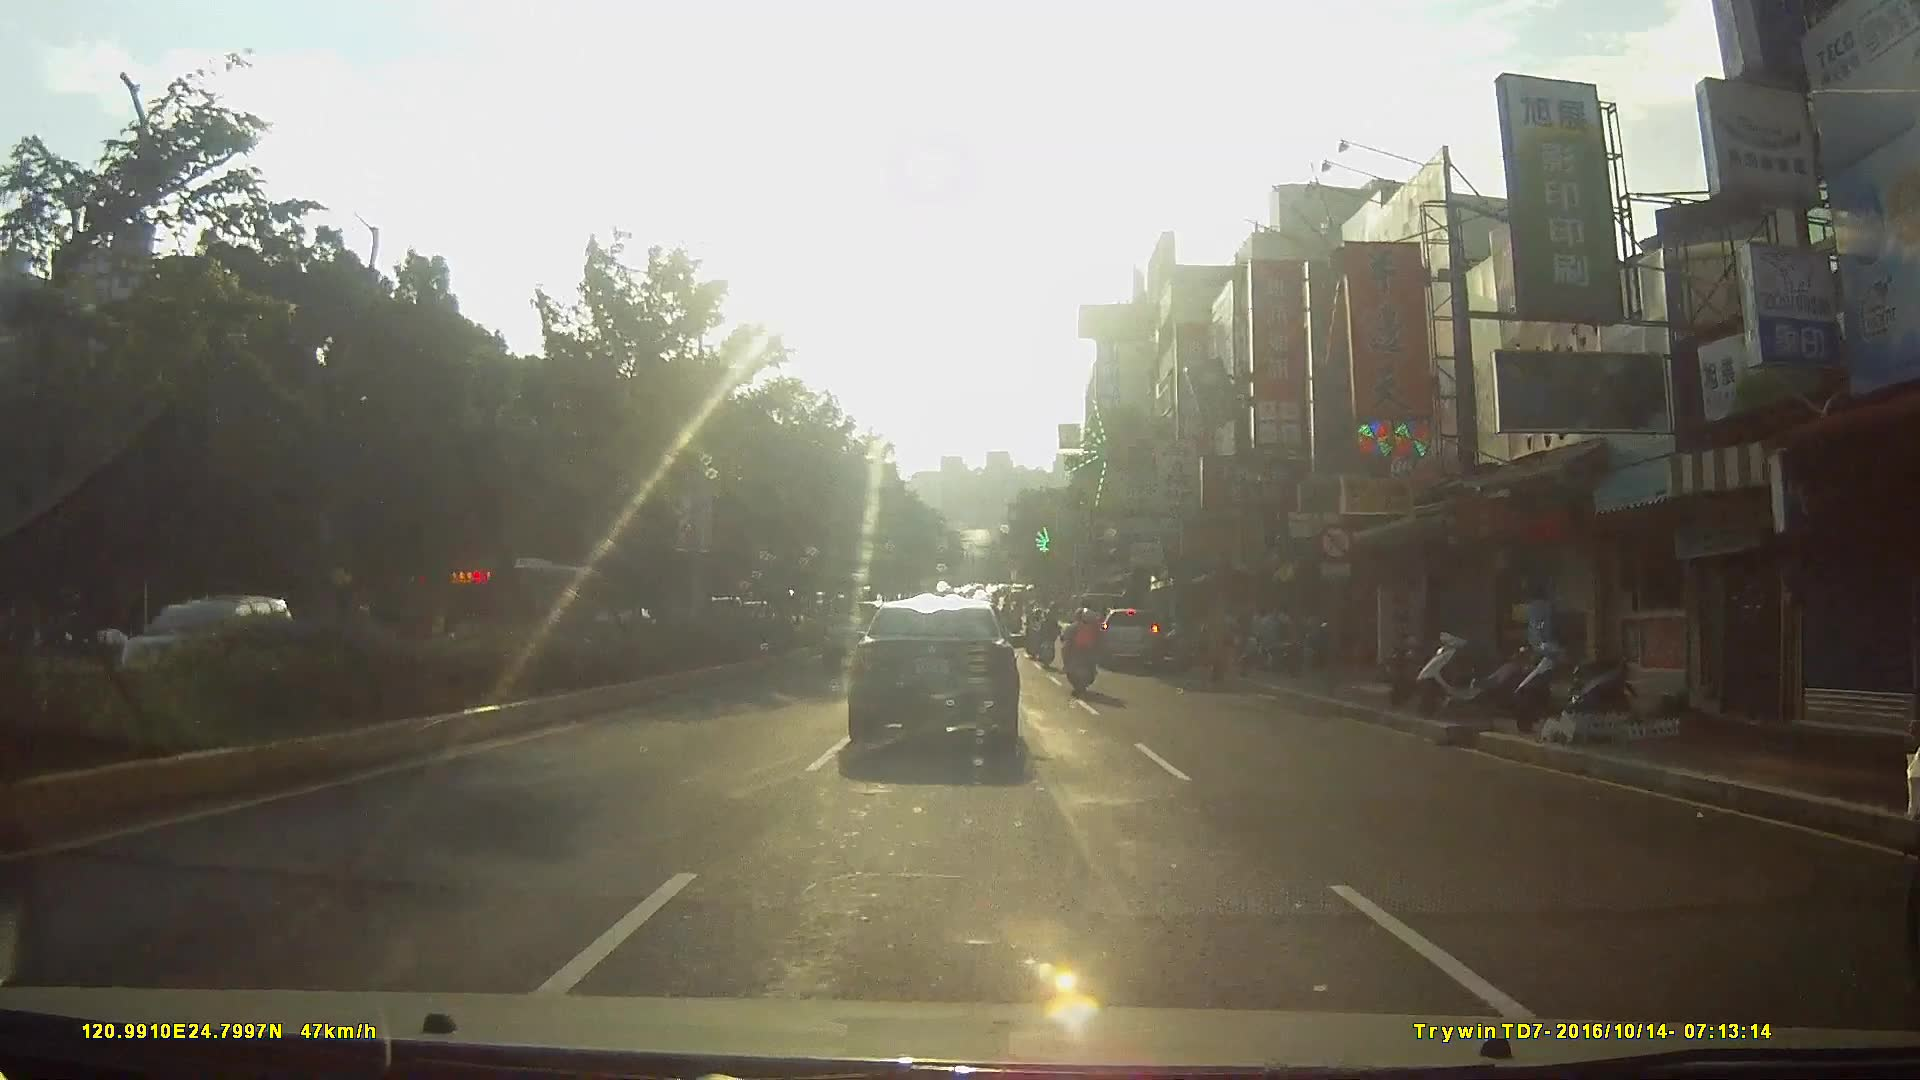pedestrian: (1515, 585, 1555, 692)
rider: (1060, 611, 1104, 708), (1031, 606, 1061, 670)
vehicle: (843, 590, 1034, 757), (1092, 601, 1169, 673)
